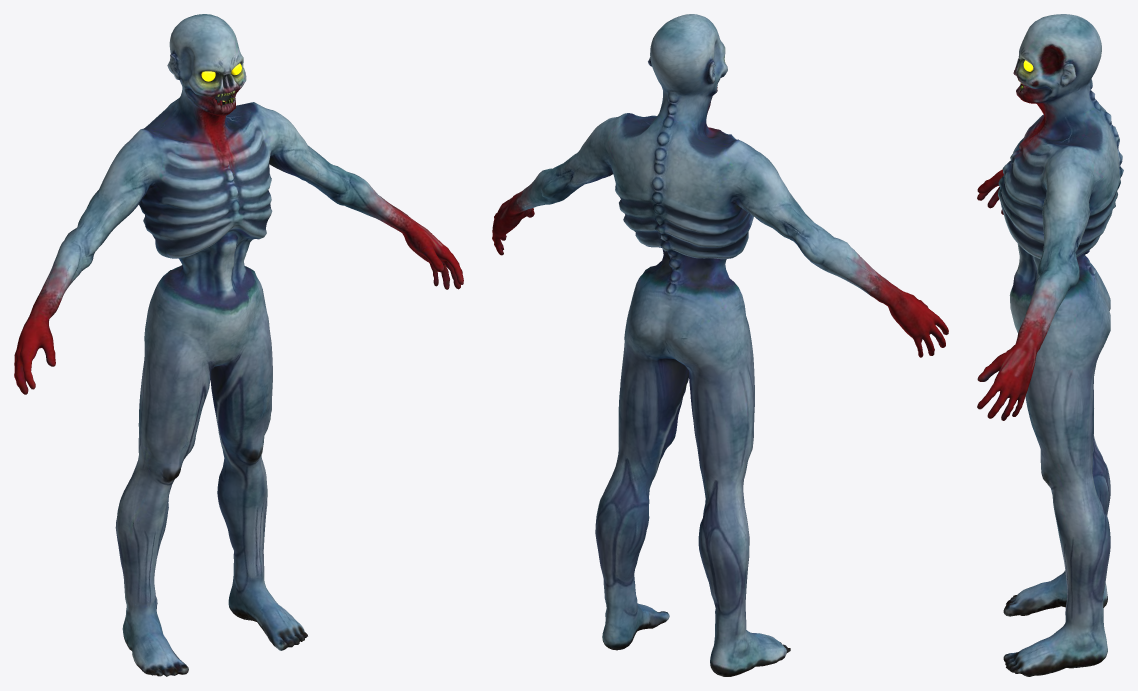
File: zombie_a.glb
3 views of the same model, side by side, from view 1: azimuth 30°, elevation 25°; view 2: azimuth 150°, elevation 25°; view 3: azimuth 270°, elevation 25° (orthographic).
Parts seen in each view (by area): view 1: Body; view 2: Body; view 3: Body.
Part boxes in pixels (<box>): Body: <box>14,14,463,676</box>; Body: <box>492,14,948,676</box>; Body: <box>977,14,1123,676</box>.
Bounding box in the file's own units: 97.33 × 132 × 28.11.
5 materials, 5 textured.
